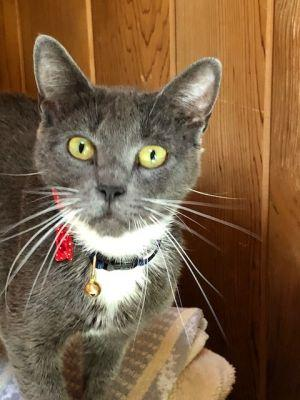rblue: (15, 18, 239, 277)
